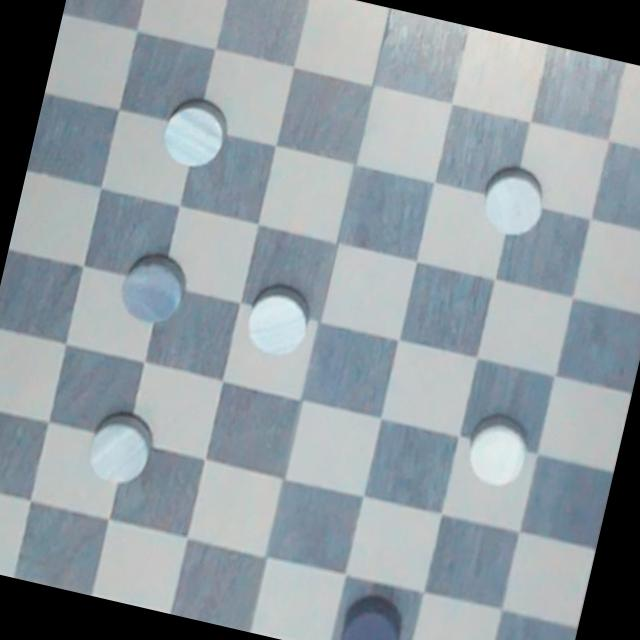BOARD: (0, 0, 640, 640)
black: (334, 589, 420, 640)
white: (105, 240, 203, 340), (75, 399, 171, 496), (454, 398, 544, 496), (236, 272, 324, 369), (152, 86, 242, 180), (474, 157, 554, 250)
